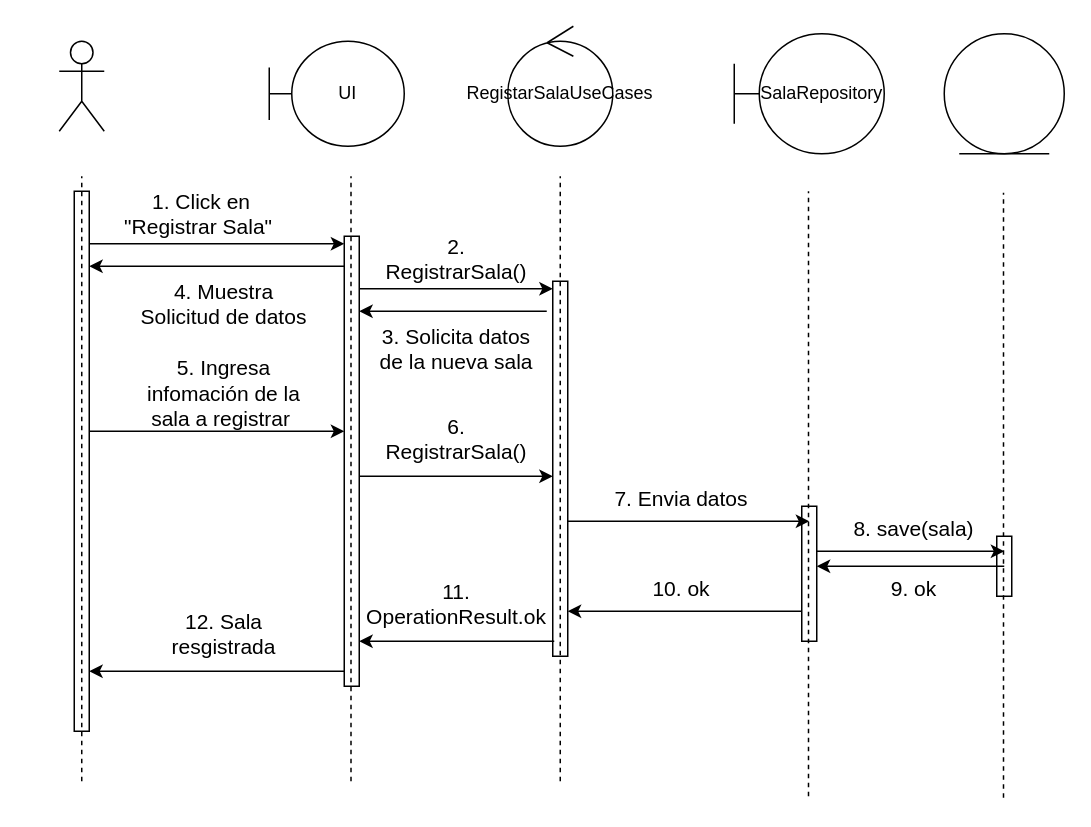
This 1091x827 diagram has some shape labels left out. Here are the shapes that lost their labels. From the top down, the centre of each, then its label:
At (81,85): "Administrador".
At (1003,93): "Sala".
